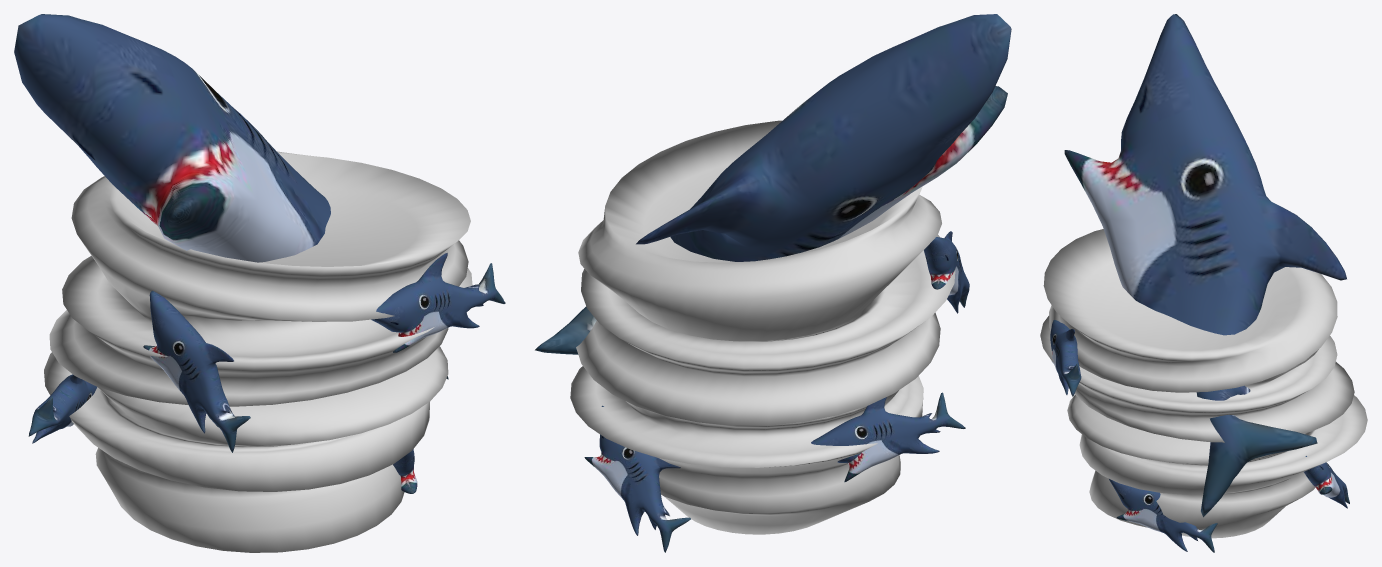
The model's file is GameJamSharknado.fbx.
3 views of the same model, side by side, from view 1: azimuth 30°, elevation 25°; view 2: azimuth 150°, elevation 25°; view 3: azimuth 270°, elevation 25° (orthographic). The views are drawn at different scales.
Parts seen in each view (by area): view 1: Tornado, Plane, Plane.004, Plane.001, Plane.002, Plane.003; view 2: Tornado, Plane, Plane.002, Plane.005, Plane.004; view 3: Tornado, Plane, Plane.003, Plane.001, Plane.005.
Part boxes in pixels (x1=…): Tornado: x1=44, y1=151, x2=472, y2=552; Plane: x1=14, y1=14, x2=448, y2=379; Plane.004: x1=143, y1=290, x2=250, y2=452; Plane.001: x1=371, y1=253, x2=505, y2=352; Plane.002: x1=28, y1=374, x2=97, y2=443; Plane.003: x1=393, y1=449, x2=417, y2=493; Tornado: x1=570, y1=120, x2=955, y2=534; Plane: x1=535, y1=14, x2=1011, y2=354; Plane.002: x1=811, y1=392, x2=965, y2=482; Plane.005: x1=584, y1=405, x2=690, y2=552; Plane.004: x1=924, y1=231, x2=969, y2=313; Tornado: x1=1040, y1=229, x2=1367, y2=538; Plane: x1=1064, y1=14, x2=1346, y2=517; Plane.003: x1=1109, y1=479, x2=1217, y2=552; Plane.001: x1=1050, y1=320, x2=1081, y2=396; Plane.005: x1=1304, y1=456, x2=1349, y2=508.
Bounding box in the file's own units: 191 × 233 × 167.
